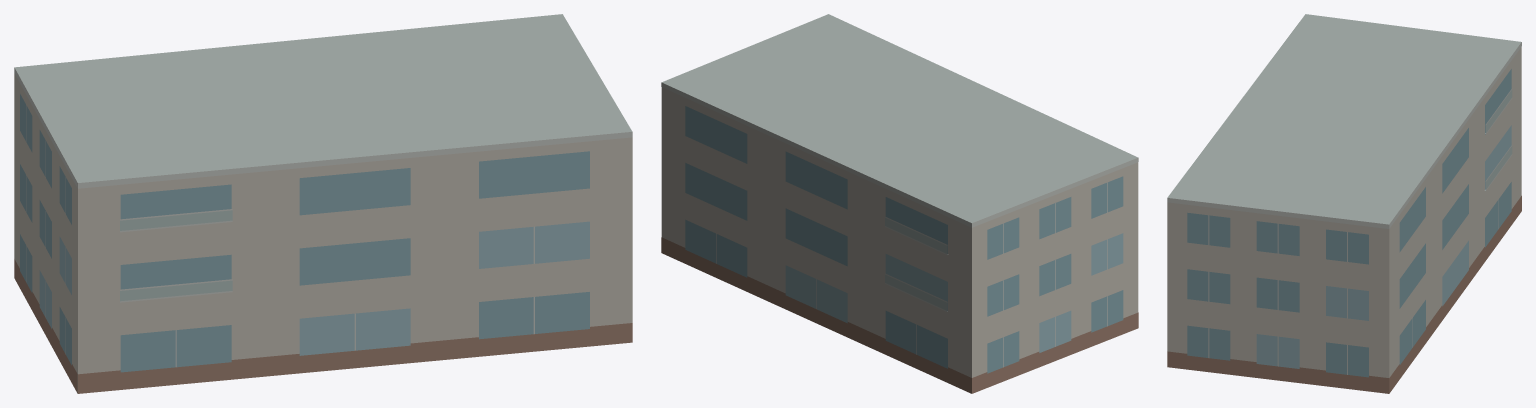
File: survey-upis-32964157.glb
3 views of the same model, side by side, from view 1: azimuth 30°, elevation 25°; view 2: azimuth 150°, elevation 25°; view 3: azimuth 270°, elevation 25° (orthographic). The views are drawn at different scales.
Parts seen in each view (by area): view 1: survey-upis-32964157.tmp; view 2: survey-upis-32964157.tmp; view 3: survey-upis-32964157.tmp.
Part boxes in pixels (x1,y1,x2,y2): survey-upis-32964157.tmp: (14,14,632,393); survey-upis-32964157.tmp: (661,14,1138,393); survey-upis-32964157.tmp: (1167,14,1521,393).
Bounding box in the file's own units: 24.41 × 9.15 × 17.37.
